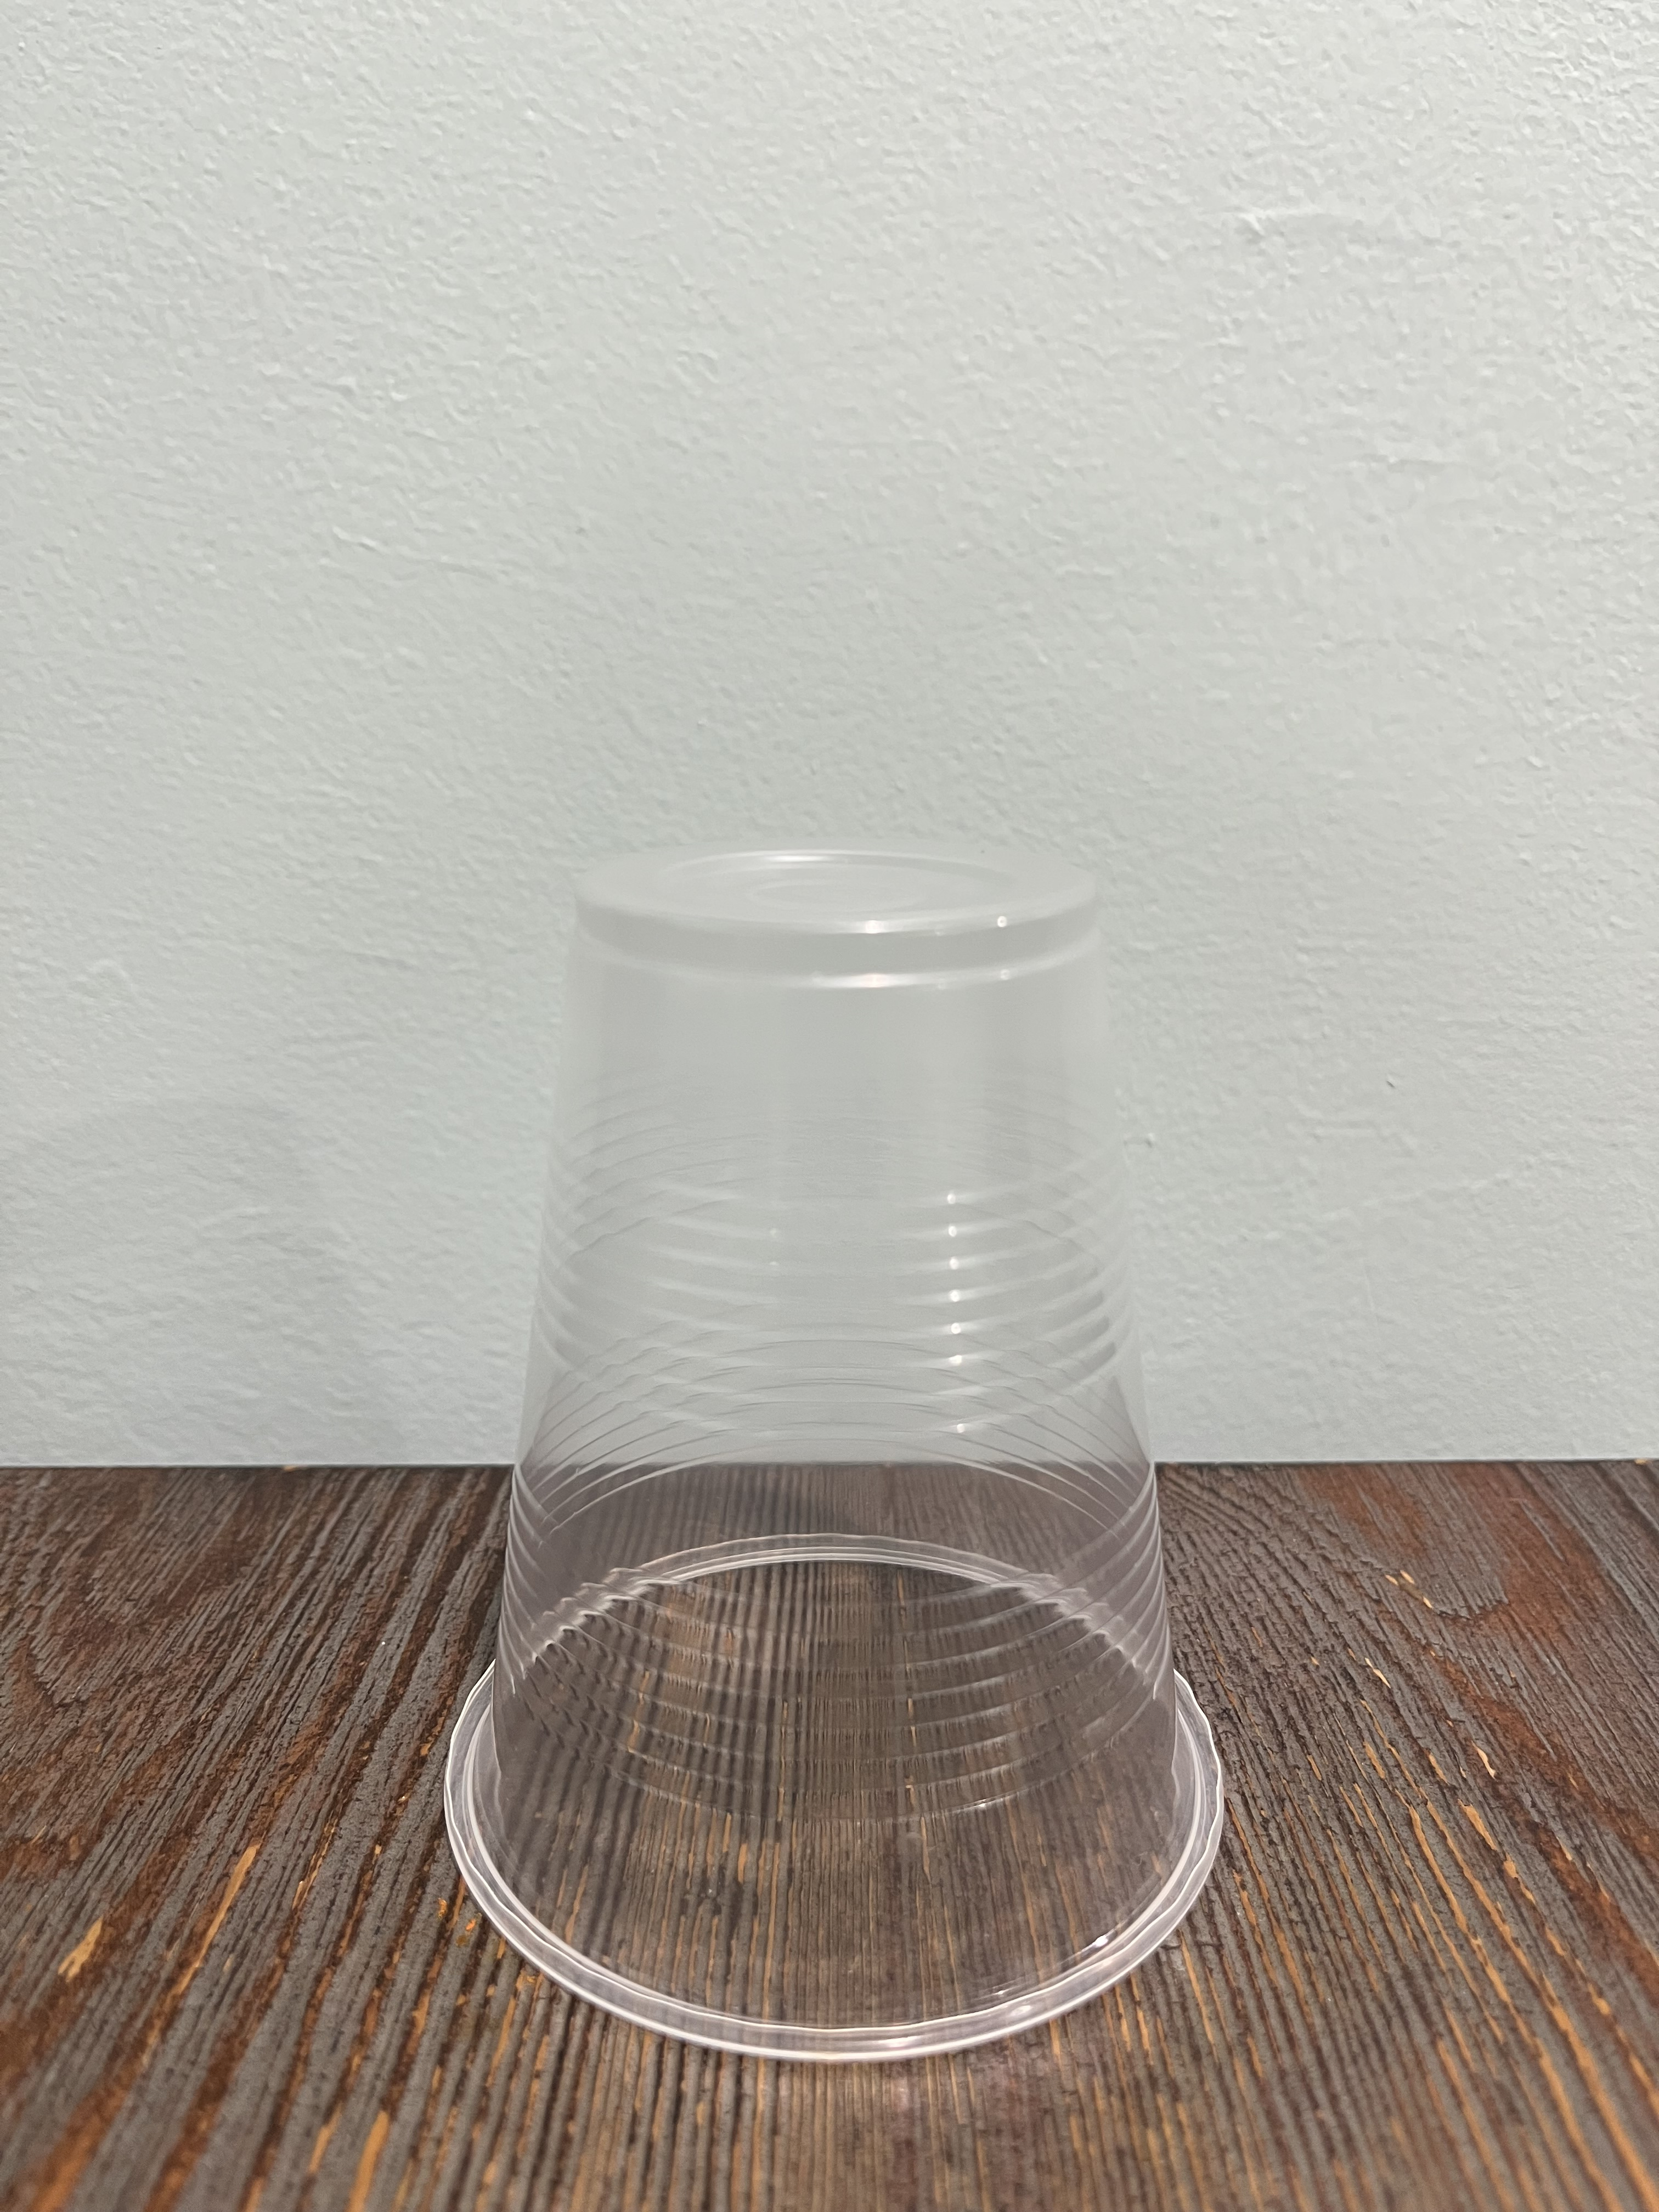plastic: (418, 838, 1258, 2080)
